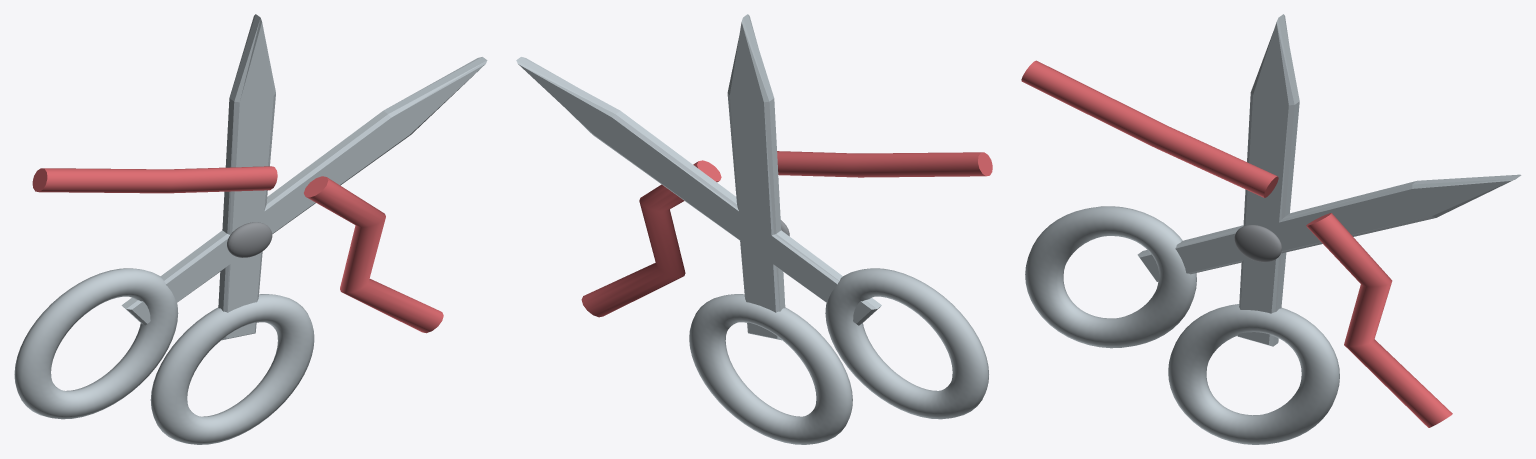
File: severed_oath.glb
3 renders of one model, left to right at view 1: azimuth 30°, elevation 25°; view 2: azimuth 150°, elevation 25°; view 3: azimuth 330°, elevation 25°, orthographic. The views are drawn at different scales.
Size of the model in its own units: 26 by 22 by 2.29.
